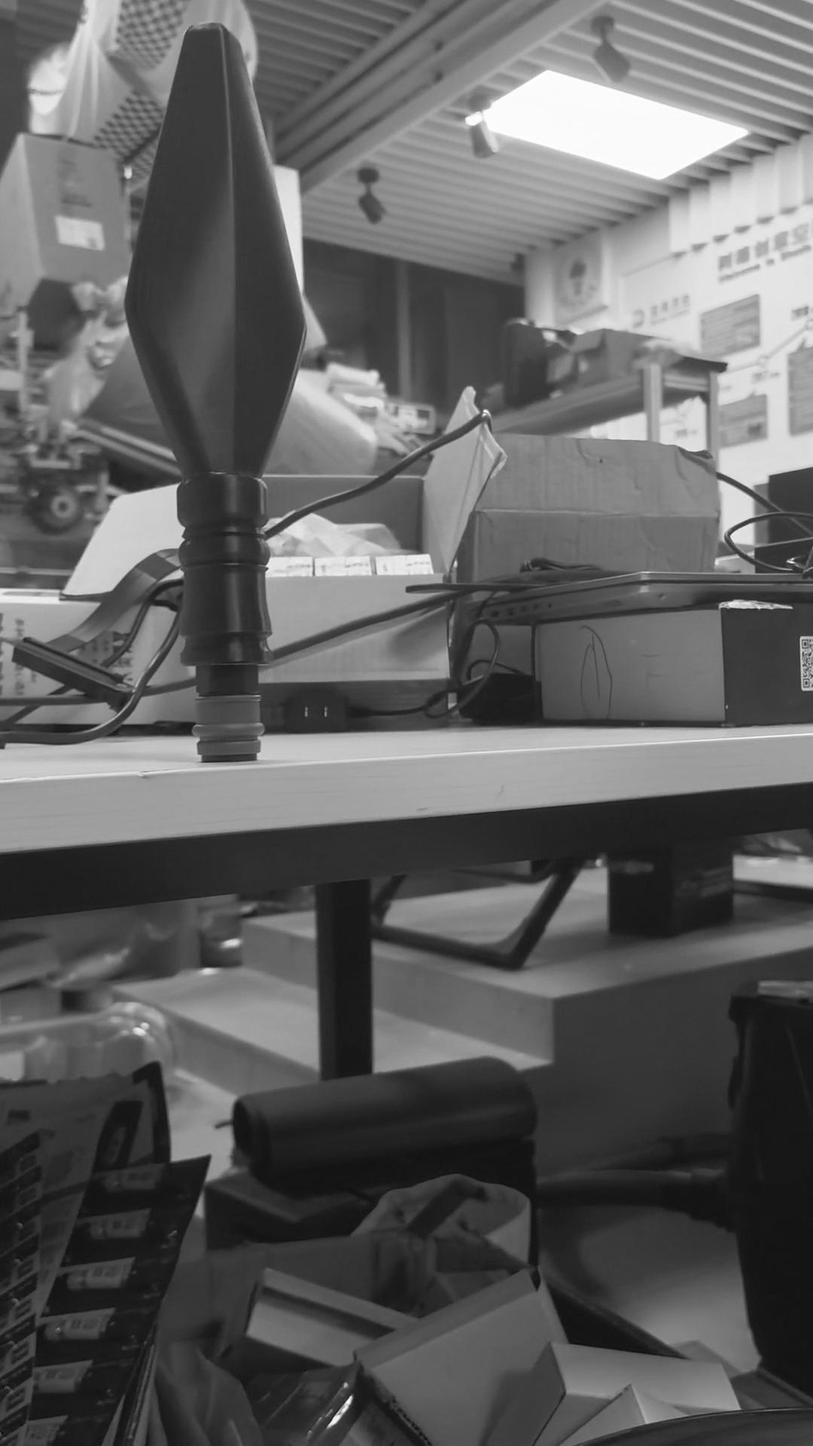base: (196, 688, 267, 766)
